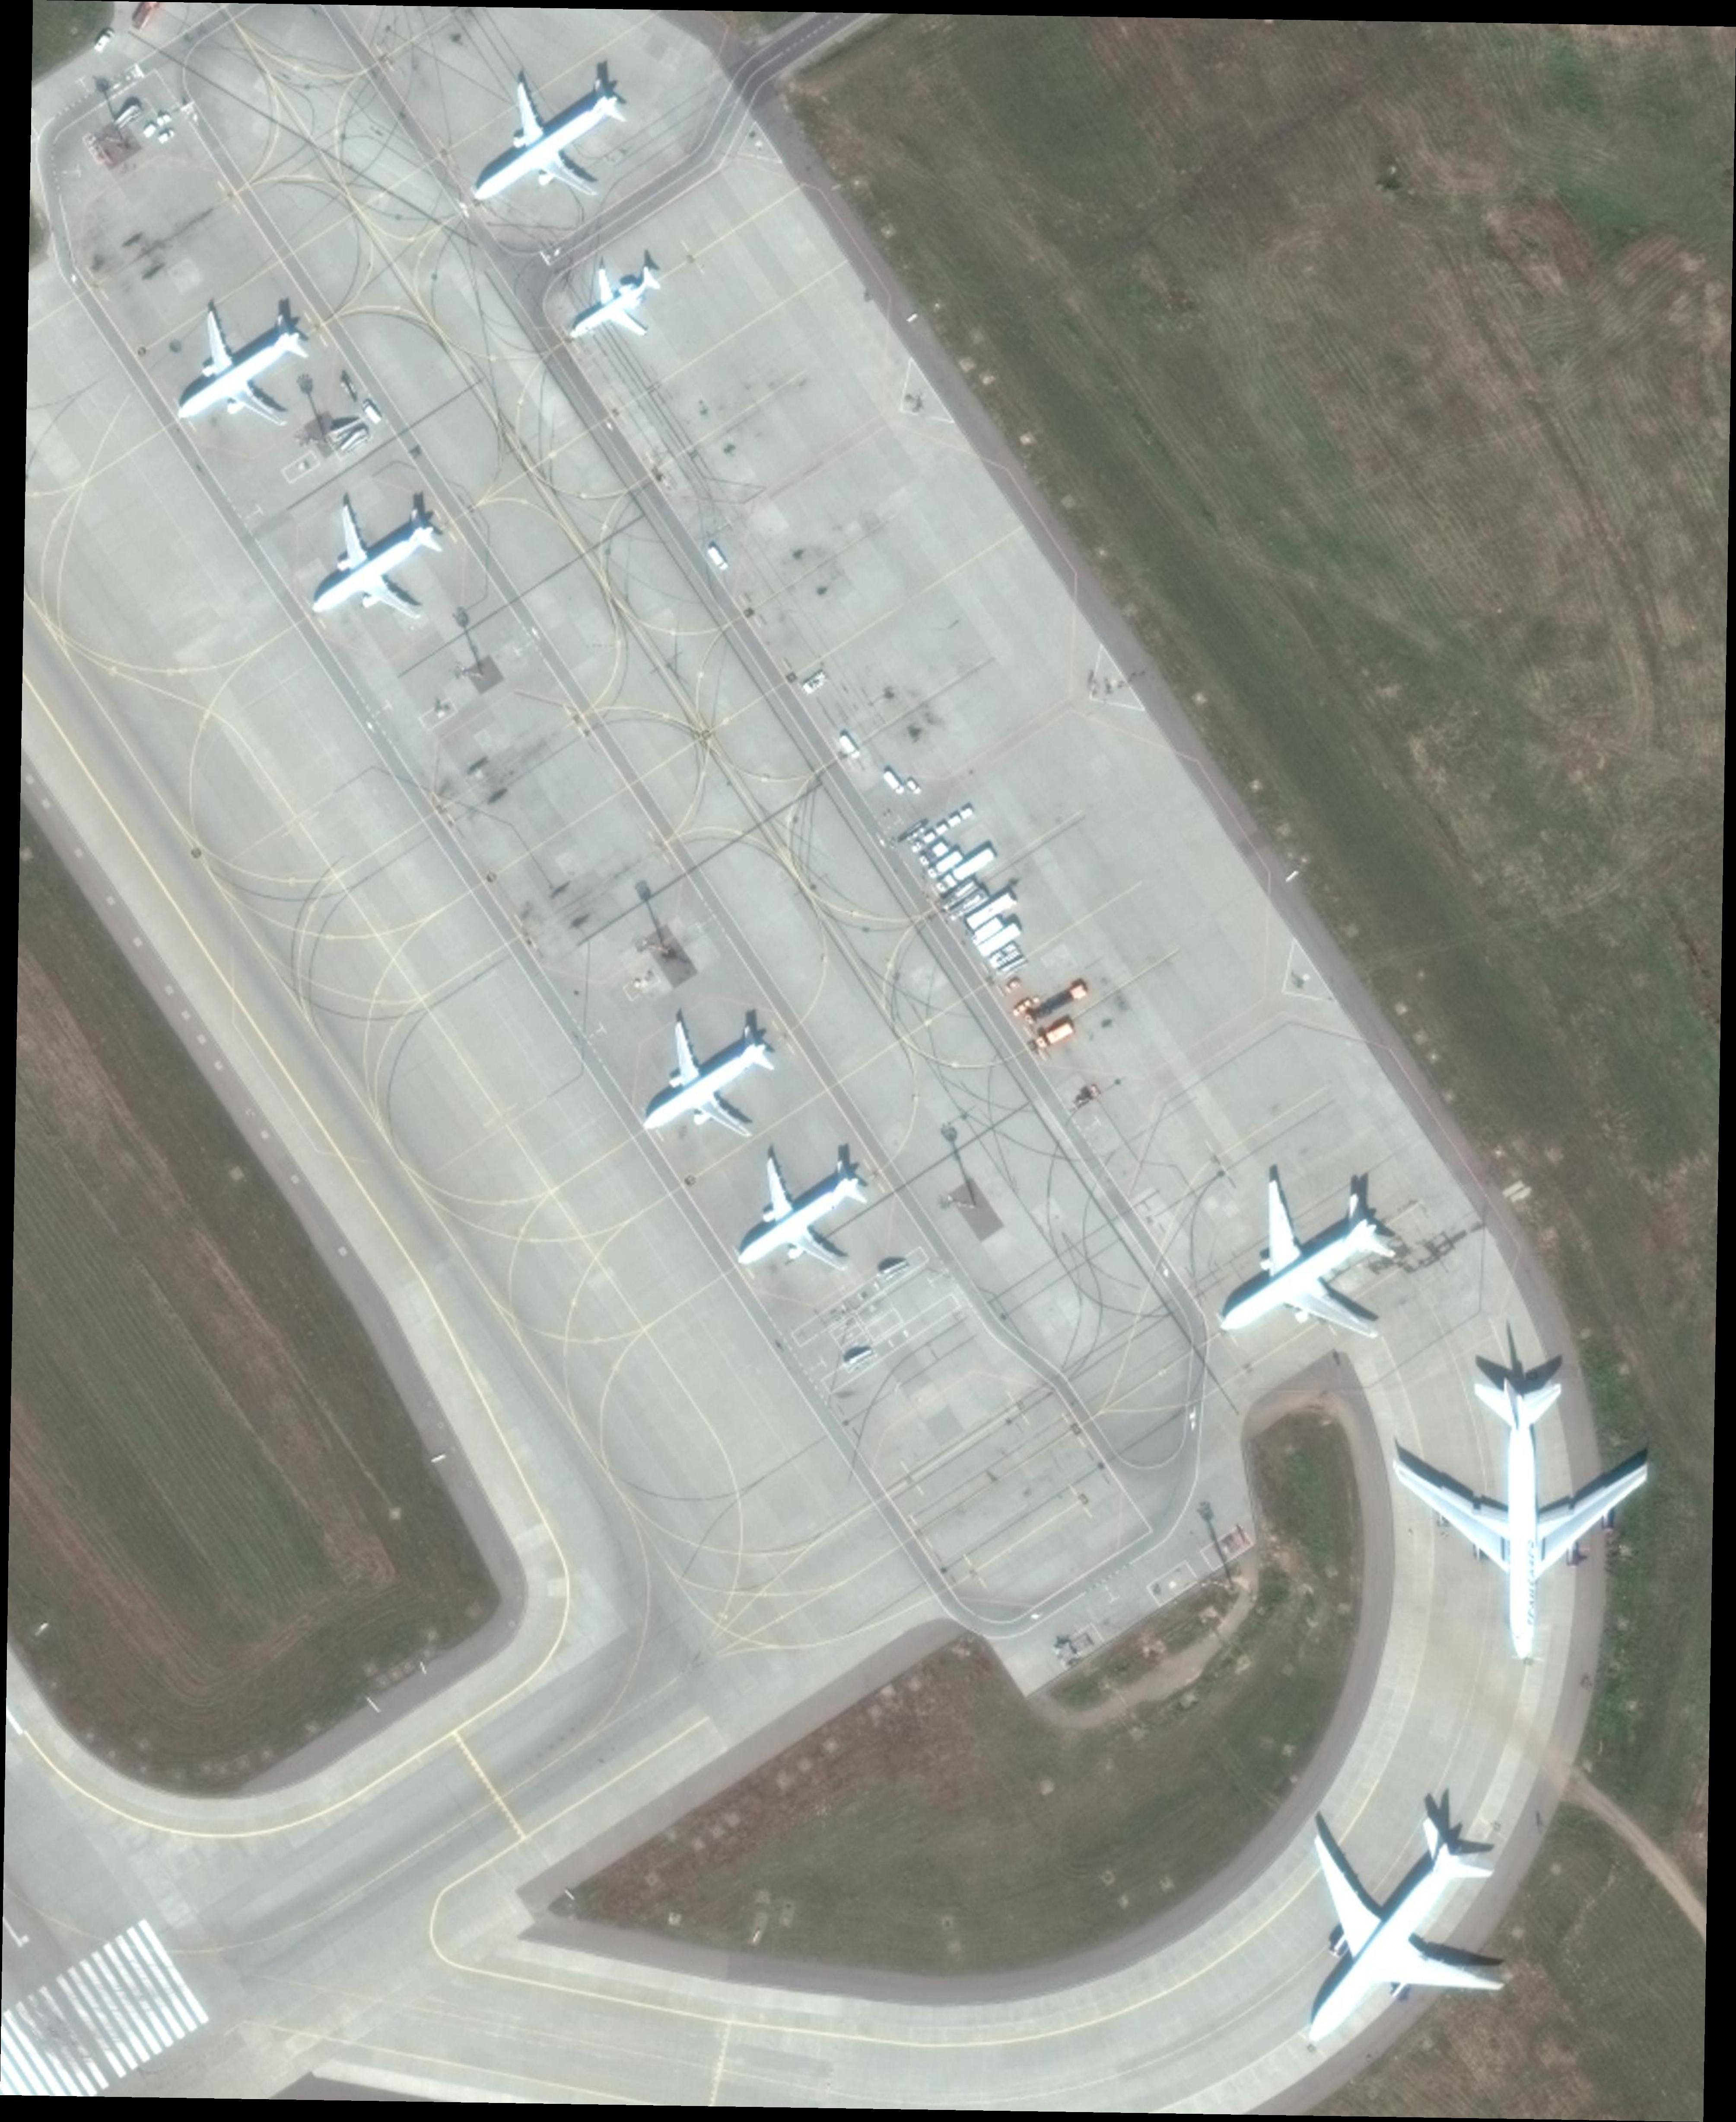plane: (1221, 1768, 1550, 2111), (1386, 1374, 1650, 1662), (1178, 1142, 1431, 1406), (439, 51, 652, 252), (704, 1120, 897, 1318), (140, 281, 338, 464), (610, 990, 800, 1179), (277, 474, 461, 662), (546, 245, 680, 370)
